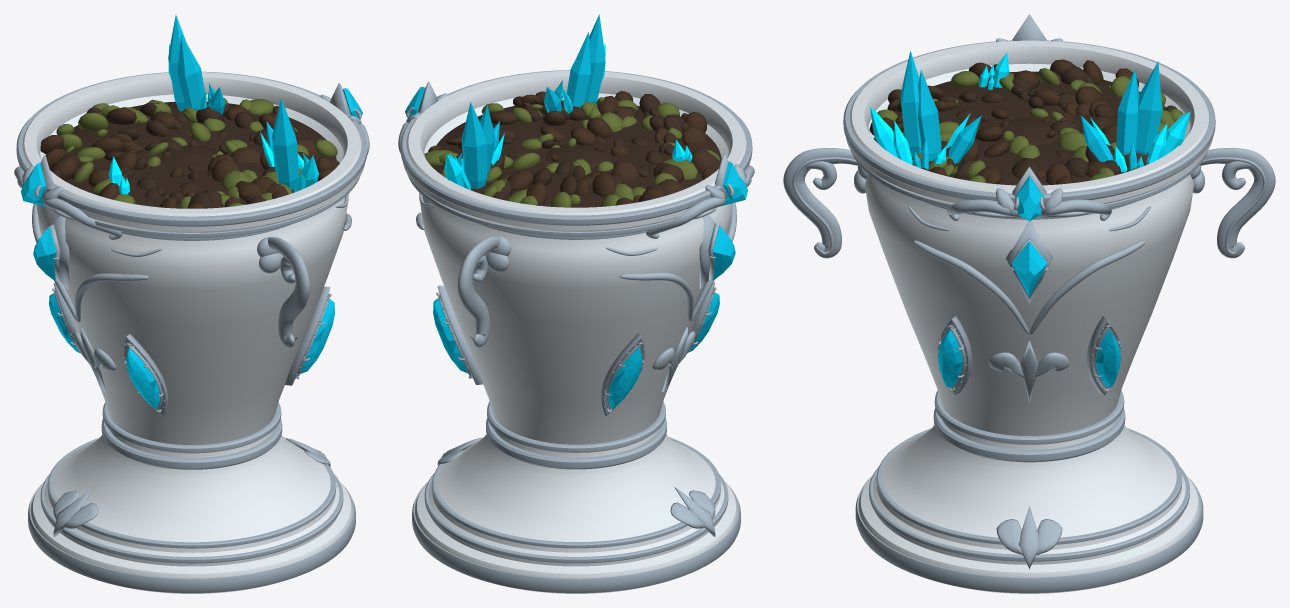
File: pot_final.fbx
3 renders of one model, left to right at view 1: azimuth 30°, elevation 25°; view 2: azimuth 150°, elevation 25°; view 3: azimuth 270°, elevation 25°, orthographic. The views are drawn at different scales.
Visible parts, largest first — view 1: Bowl_Closed_Inner_Wall, Pedestal_Stepped, Soil_Stem_Clearance, Foot_Gold_Toe, Lip_Rolled_Gold, Foot_Upper_Bead, Foot_Crown, Waist_Lower_Collar, Forged_Handle_Scroll, Waist_Upper_Collar, V6_Fan_0_Blade_00, Lip_Lower_Gold (+17 smaller); view 2: Bowl_Closed_Inner_Wall, Pedestal_Stepped, Soil_Stem_Clearance, Foot_Gold_Toe, Lip_Rolled_Gold, Foot_Upper_Bead, Foot_Crown, Waist_Lower_Collar, Forged_Handle_Scroll.001, Waist_Upper_Collar, V6_Fan_1_Blade_00, Lip_Lower_Gold (+19 smaller); view 3: Bowl_Closed_Inner_Wall, Pedestal_Stepped, Foot_Gold_Toe, Soil_Stem_Clearance, Lip_Rolled_Gold, Foot_Upper_Bead, Foot_Crown, Waist_Lower_Collar, Forged_Handle_Scroll, Forged_Handle_Scroll.001, Waist_Upper_Collar, V6_Fan_1_Blade_00 (+24 smaller).
Boxes of the visible parts, box(x1,y1,x2,y2) form: Bowl_Closed_Inner_Wall: box(19, 72, 364, 444); Pedestal_Stepped: box(30, 430, 353, 593); Soil_Stem_Clearance: box(65, 101, 336, 208); Foot_Gold_Toe: box(28, 483, 355, 592); Lip_Rolled_Gold: box(16, 71, 367, 226); Foot_Upper_Bead: box(40, 474, 343, 563); Foot_Crown: box(47, 437, 336, 548); Waist_Lower_Collar: box(101, 418, 282, 469); Forged_Handle_Scroll: box(267, 237, 310, 347); Waist_Upper_Collar: box(102, 402, 281, 453); V6_Fan_0_Blade_00: box(272, 98, 299, 190); Lip_Lower_Gold: box(95, 177, 359, 237); Bowl_Closed_Inner_Wall: box(403, 70, 749, 444); Pedestal_Stepped: box(414, 430, 738, 593); Soil_Stem_Clearance: box(433, 100, 721, 207); Foot_Gold_Toe: box(412, 482, 740, 592); Lip_Rolled_Gold: box(400, 70, 752, 225); Foot_Upper_Bead: box(424, 474, 728, 563); Foot_Crown: box(432, 437, 720, 548); Waist_Lower_Collar: box(486, 418, 666, 469); Forged_Handle_Scroll.001: box(457, 236, 500, 347); Waist_Upper_Collar: box(487, 402, 665, 452); V6_Fan_1_Blade_00: box(461, 102, 487, 188); Lip_Lower_Gold: box(407, 175, 673, 236); Bowl_Closed_Inner_Wall: box(846, 40, 1212, 435); Pedestal_Stepped: box(858, 420, 1200, 593); Foot_Gold_Toe: box(855, 477, 1203, 592); Soil_Stem_Clearance: box(894, 71, 1166, 185); Lip_Rolled_Gold: box(843, 40, 1215, 203); Foot_Upper_Bead: box(869, 467, 1189, 561); Foot_Crown: box(876, 428, 1182, 544); Waist_Lower_Collar: box(933, 408, 1125, 462); Forged_Handle_Scroll: box(783, 148, 858, 258); Forged_Handle_Scroll.001: box(1200, 148, 1275, 258); Waist_Upper_Collar: box(934, 391, 1124, 444); V6_Fan_1_Blade_00: box(1136, 61, 1162, 155).
Size of what is drawn, in the model's own units: 96.93 by 128 by 115.
